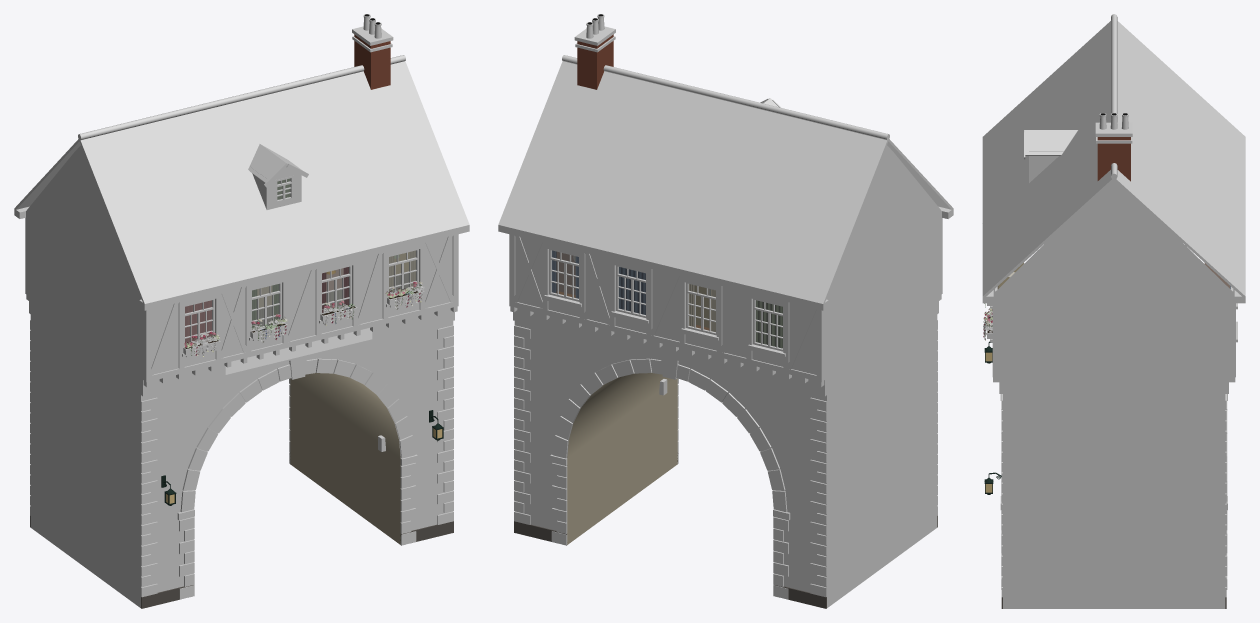
Rendered from GateStreet_Gatehouse.glb.
3 views of the same model, side by side, from view 1: azimuth 30°, elevation 25°; view 2: azimuth 150°, elevation 25°; view 3: azimuth 270°, elevation 25° (orthographic).
Visible parts, largest first — view 1: GateStreet_Gatehouse; view 2: GateStreet_Gatehouse; view 3: GateStreet_Gatehouse.
Boxes of the visible parts, bbox=[...] form: GateStreet_Gatehouse: bbox=[14, 14, 469, 608]; GateStreet_Gatehouse: bbox=[498, 14, 953, 608]; GateStreet_Gatehouse: bbox=[982, 14, 1245, 608].
Bounding box in the file's own units: 10.2 × 14.36 × 7.11.
